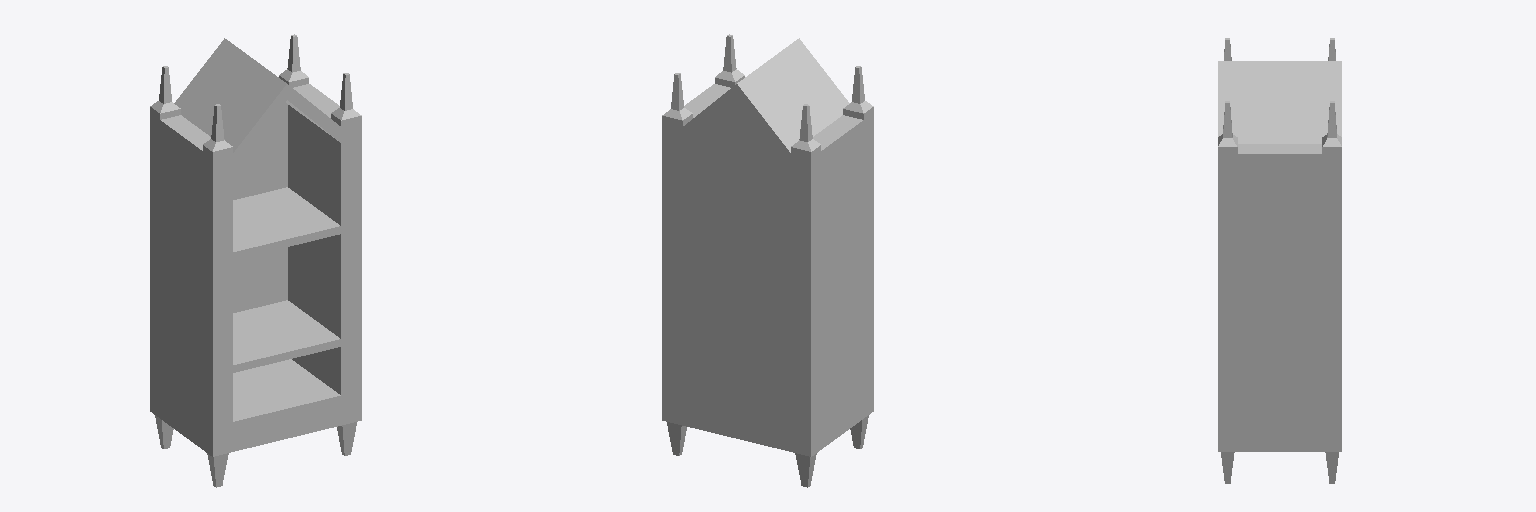
The model's file is vic cab.obj.
3 renders of one model, left to right at view 1: azimuth 30°, elevation 25°; view 2: azimuth 150°, elevation 25°; view 3: azimuth 270°, elevation 25°, orthographic.
Parts seen in each view (by area): view 1: vic_cab_Cube.001; view 2: vic_cab_Cube.001; view 3: vic_cab_Cube.001.
Part boxes in pixels (x1,y1,x2,y2): vic_cab_Cube.001: (150,34,361,487); vic_cab_Cube.001: (662,34,873,487); vic_cab_Cube.001: (1218,38,1341,483).
Size of the model in its own units: 2.77 by 6.91 by 2.